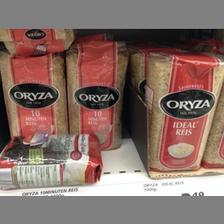Reis: (144, 51, 224, 173), (64, 38, 128, 150), (0, 50, 70, 136)
